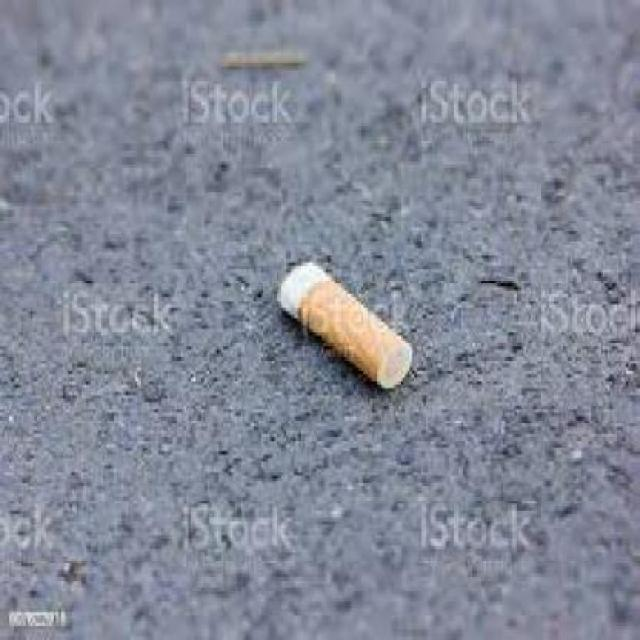cigarette: (268, 238, 423, 412)
